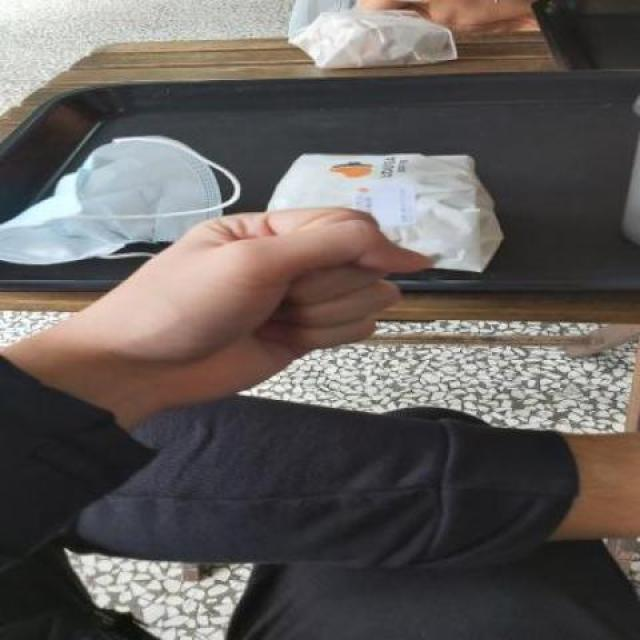Closed Hand: (107, 205, 434, 412)
